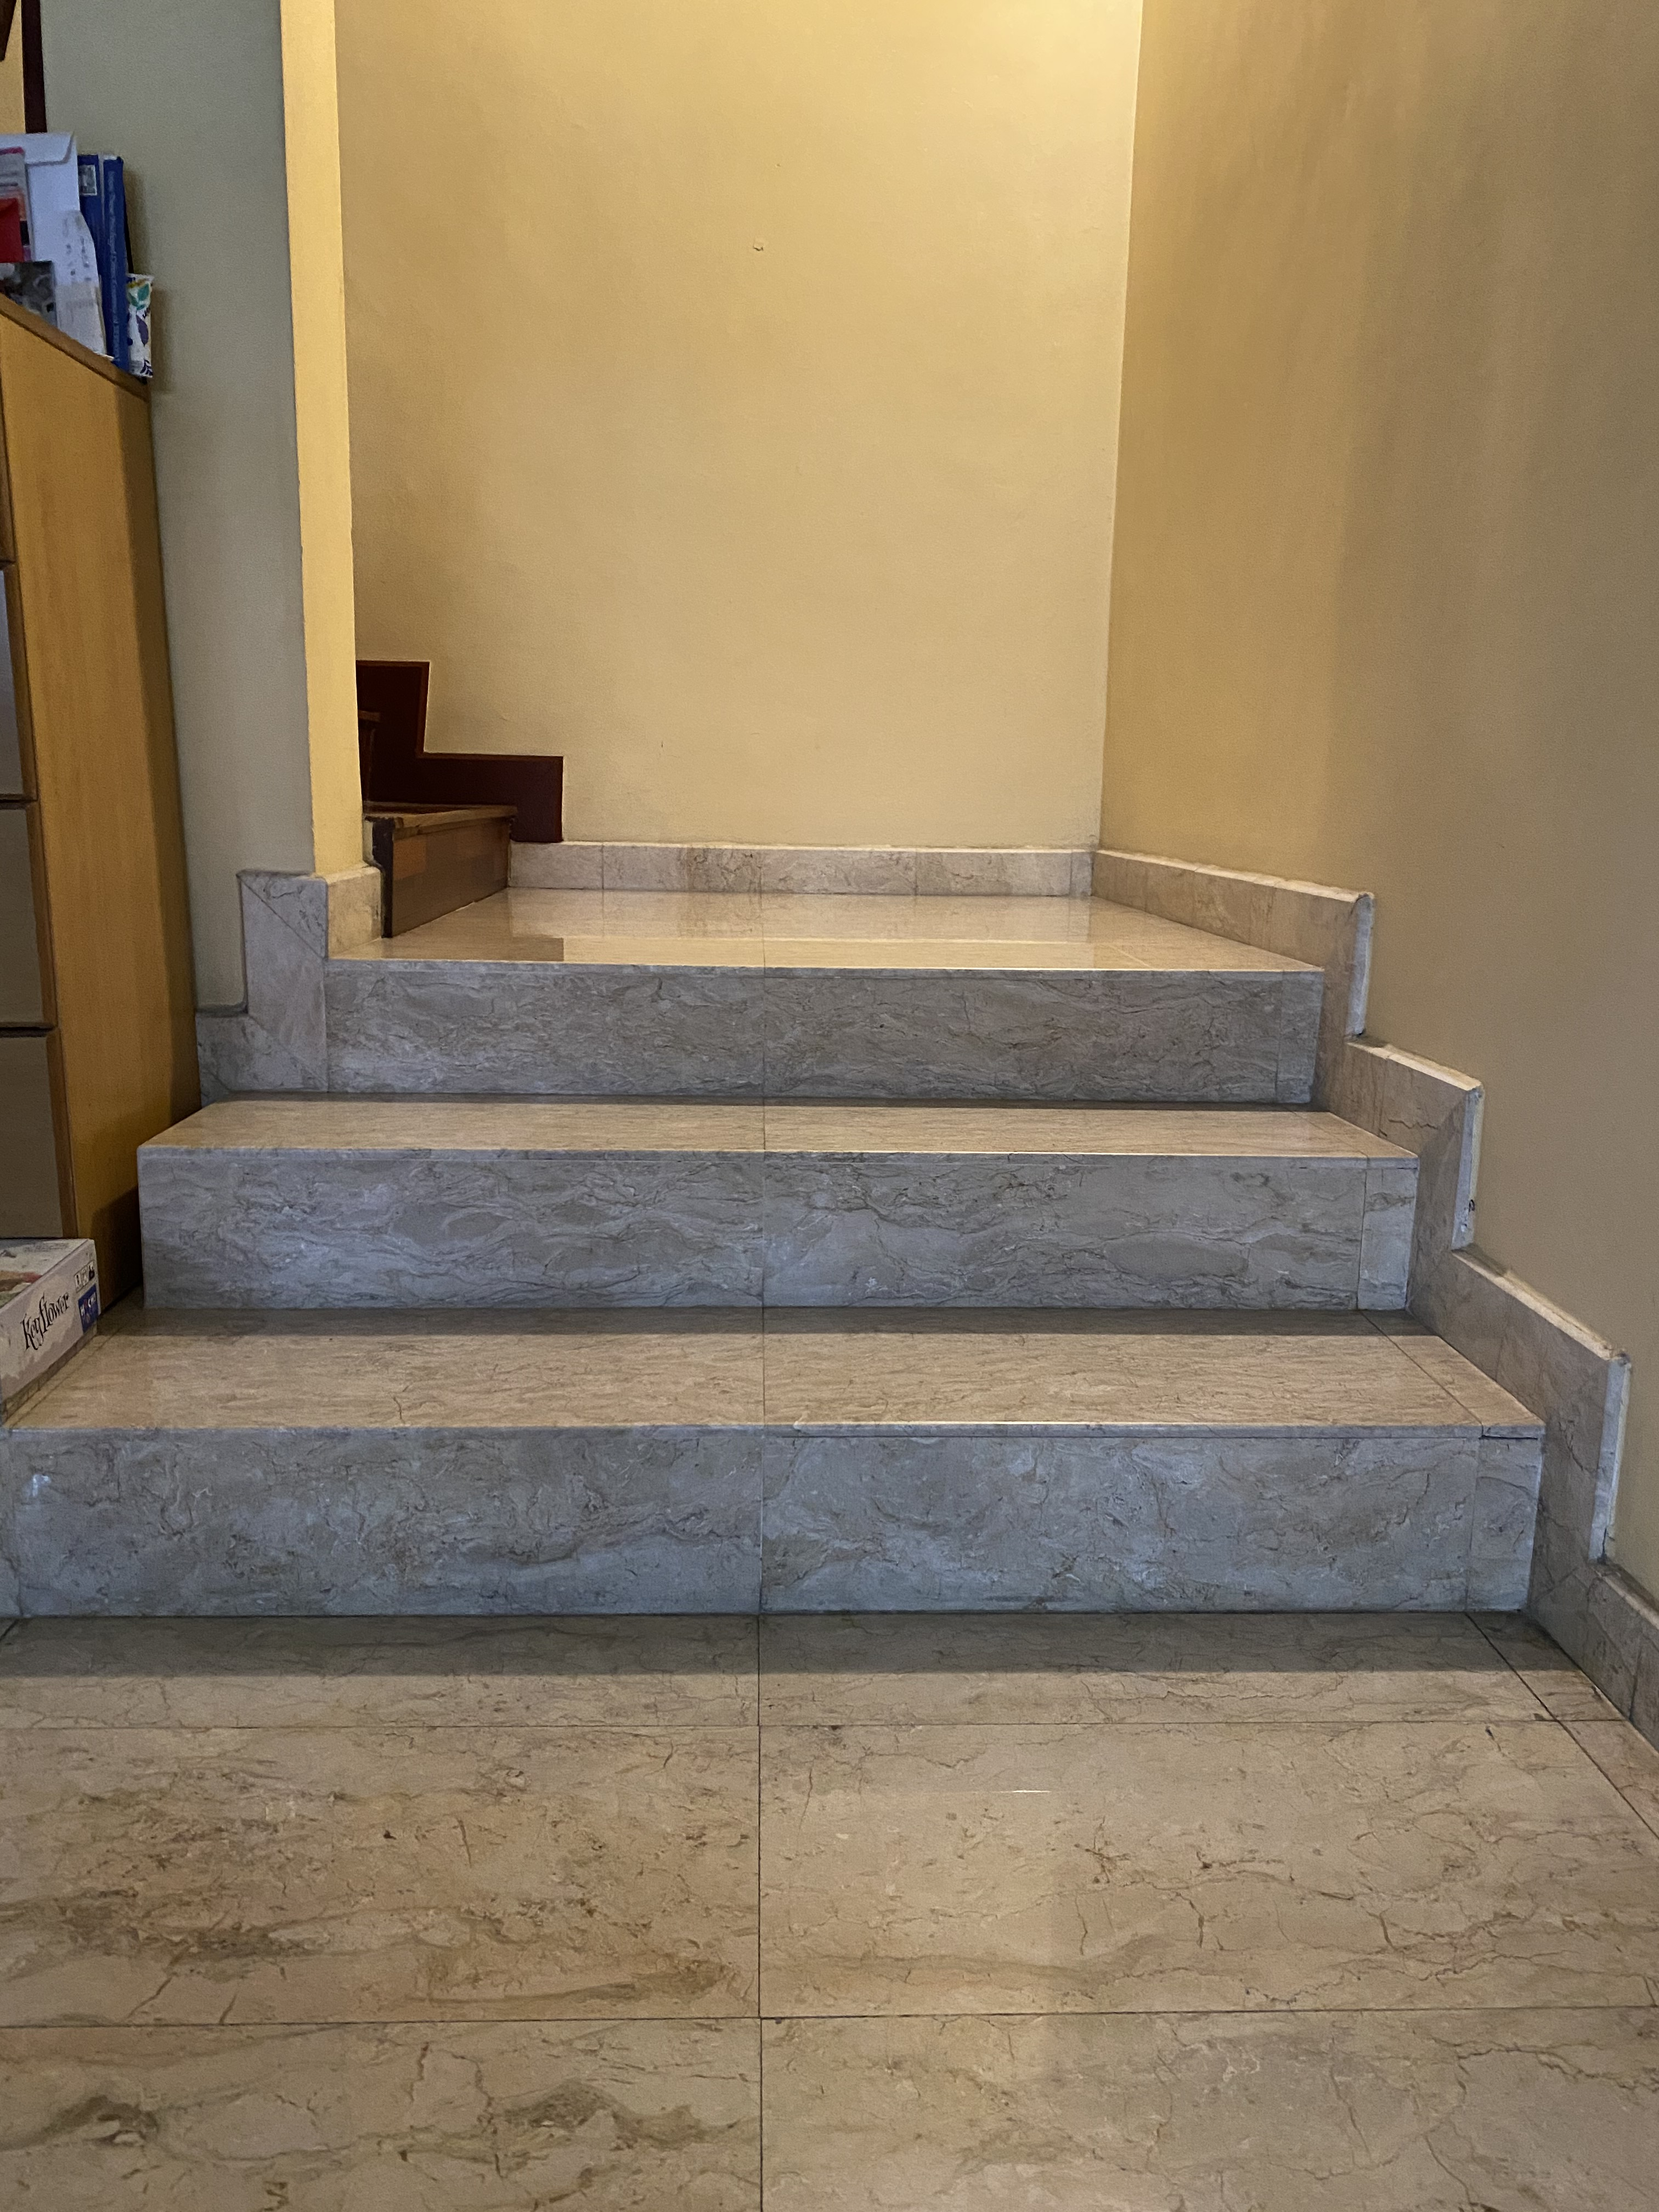upstairs: (387, 937, 1269, 1716)
